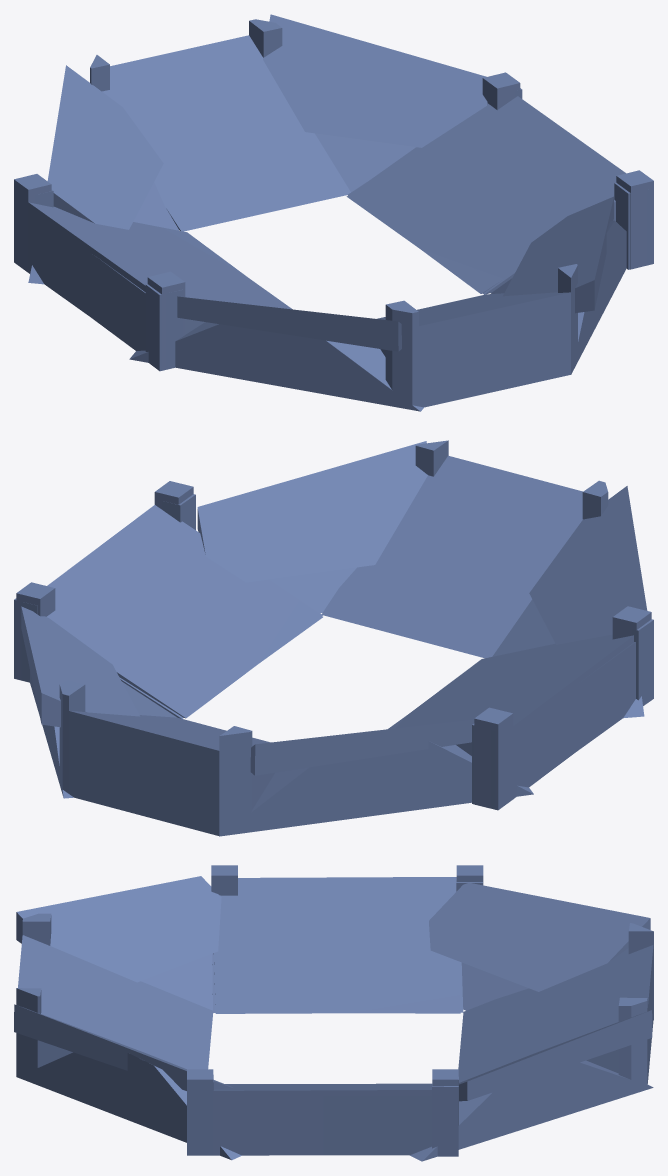
File: stadium.glb
3 renders of one model, top to bottom at view 1: azimuth 30°, elevation 25°; view 2: azimuth 150°, elevation 25°; view 3: azimuth 270°, elevation 25°, orthographic. The views are drawn at different scales.
Parts seen in each view (by area): view 1: Mesh_Mesh_head_geo.001_lambert2SG.001; view 2: Mesh_Mesh_head_geo.001_lambert2SG.001; view 3: Mesh_Mesh_head_geo.001_lambert2SG.001.
Boxes of the visible parts, bbox=[...] form: Mesh_Mesh_head_geo.001_lambert2SG.001: bbox=[14, 14, 653, 411]; Mesh_Mesh_head_geo.001_lambert2SG.001: bbox=[14, 440, 653, 836]; Mesh_Mesh_head_geo.001_lambert2SG.001: bbox=[14, 865, 653, 1161].
Bounding box in the file's own units: 98 × 18 × 117.
